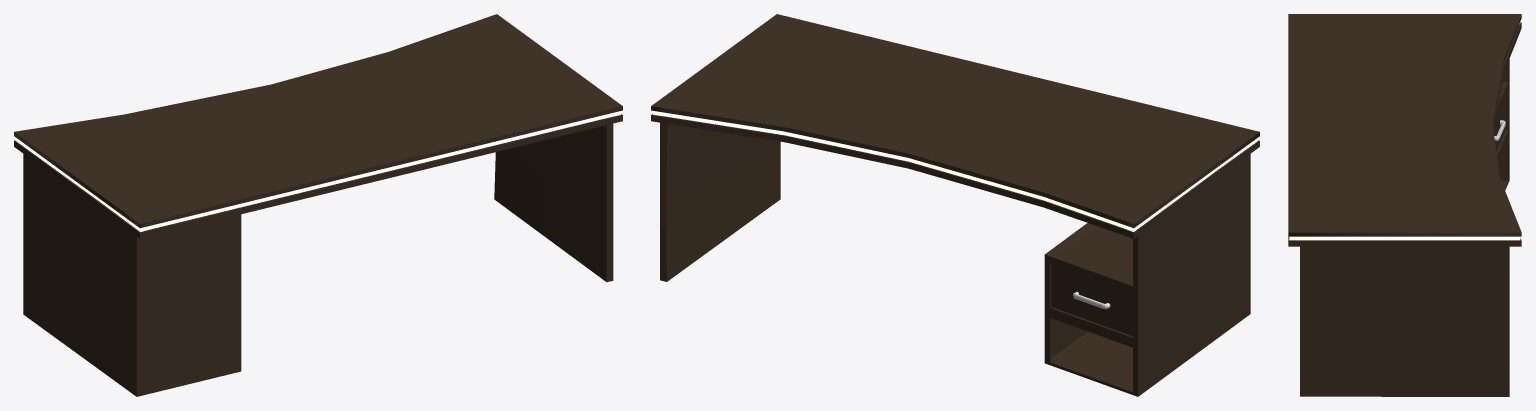
The model's file is Mesafase3.fbx.
3 views of the same model, side by side, from view 1: azimuth 30°, elevation 25°; view 2: azimuth 150°, elevation 25°; view 3: azimuth 270°, elevation 25° (orthographic). The views are drawn at different scales.
Parts seen in each view (by area): view 1: MesaP; view 2: MesaP; view 3: MesaP.
Part boxes in pixels (left/top/right/bottom): MesaP: left=14, top=14, right=622, bottom=396; MesaP: left=651, top=14, right=1259, bottom=396; MesaP: left=1288, top=14, right=1521, bottom=396.
Bounding box in the file's own units: 238 × 84.18 × 108.
